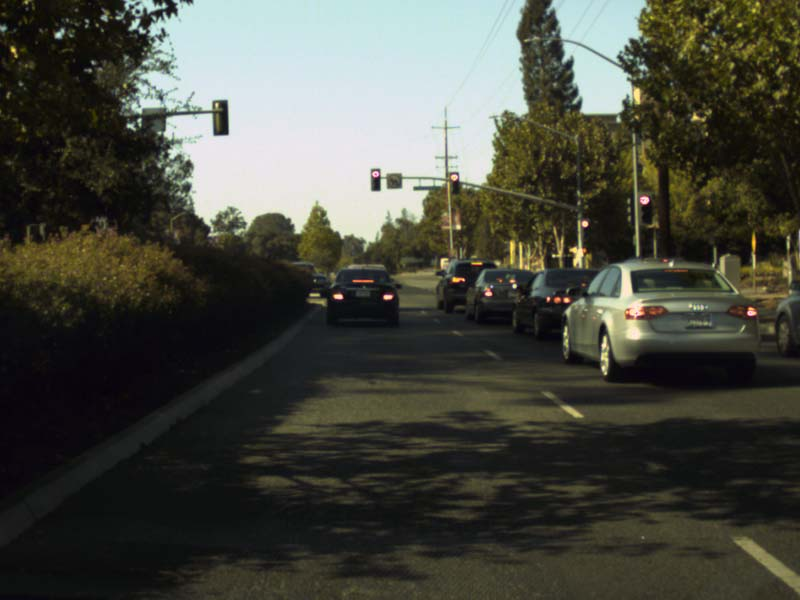Red: (639, 195, 650, 223), (370, 168, 381, 191), (448, 173, 459, 194), (581, 219, 589, 240)
